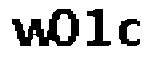0: (52, 5, 82, 49)
1: (83, 3, 112, 51)
c: (118, 18, 143, 47)
w: (10, 16, 54, 50)
